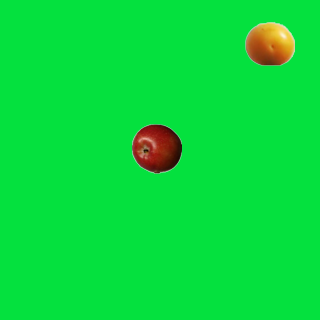Apple Braeburn: (131, 123, 181, 173)
Cherry Wax Yellow: (244, 18, 294, 68)
